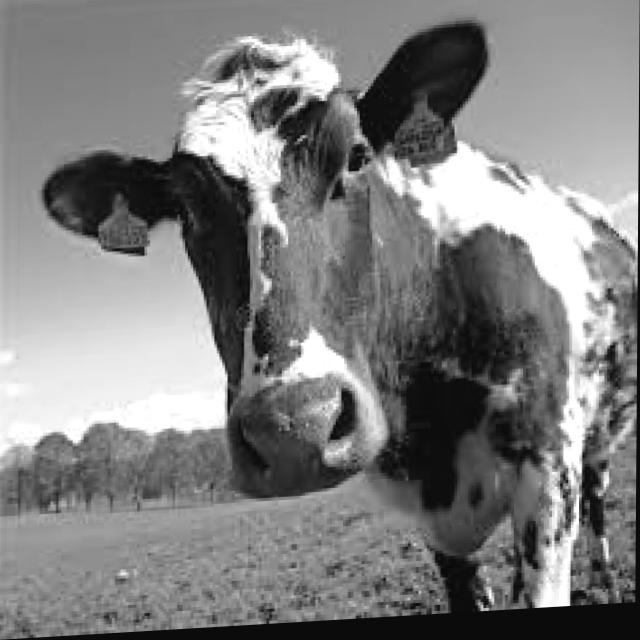Cow: (33, 1, 637, 635)
